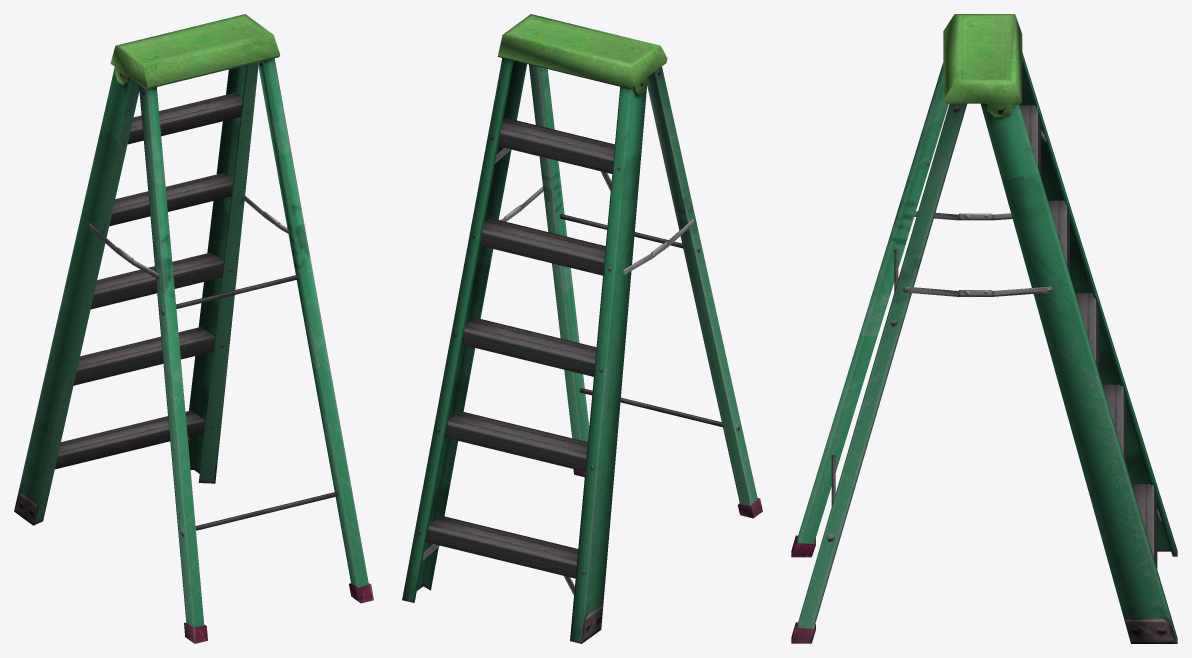
File: Ladder_03.FBX
3 renders of one model, left to right at view 1: azimuth 30°, elevation 25°; view 2: azimuth 150°, elevation 25°; view 3: azimuth 270°, elevation 25°, orthographic. The views are drawn at different scales.
Visible parts, largest first — view 1: Ladder_03; view 2: Ladder_03; view 3: Ladder_03.
Part boxes in pixels (x1,y1,x2,y2): Ladder_03: [14, 14, 373, 643]; Ladder_03: [402, 14, 762, 643]; Ladder_03: [791, 14, 1177, 643].
Bounding box in the file's own units: 37.38 × 102 × 65.13.
